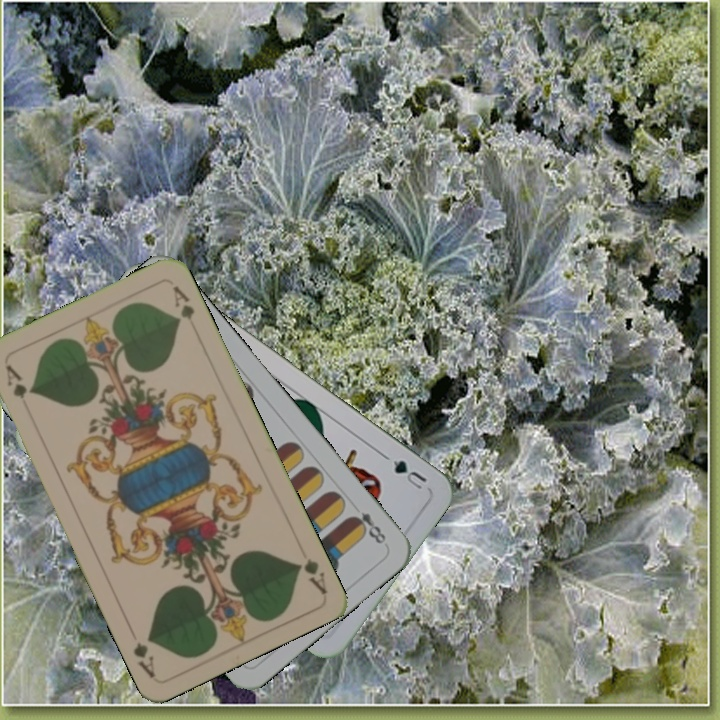E8: (346, 507, 389, 547)
GA: (292, 554, 330, 596), (2, 360, 33, 402)
GU: (387, 456, 430, 492)
